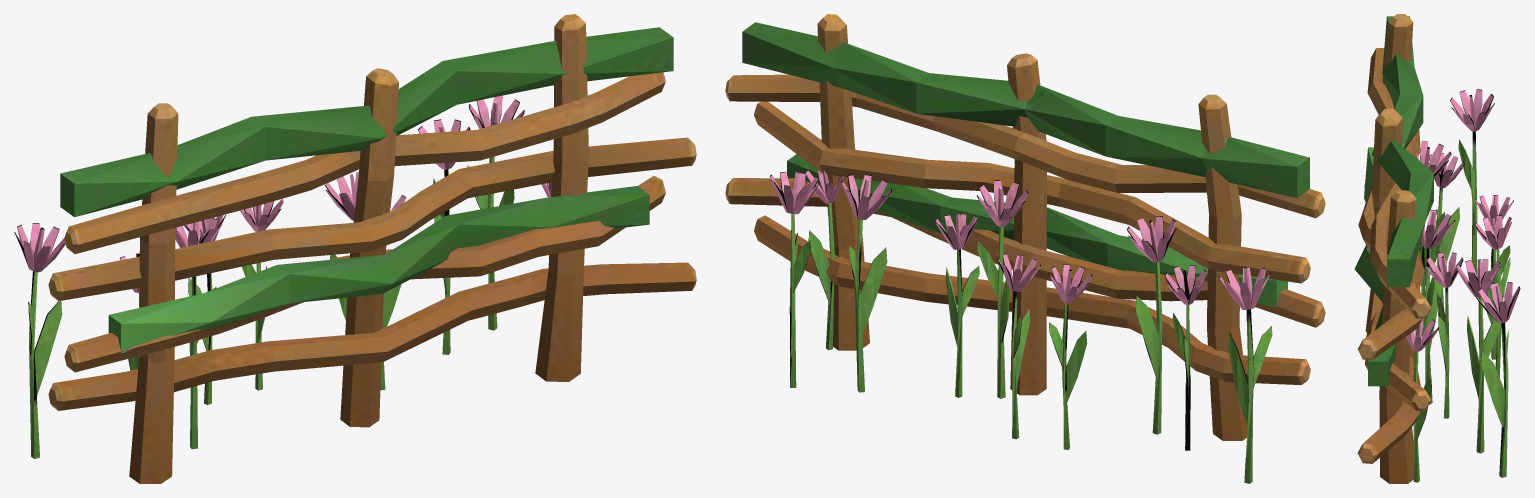
Rendered from fence_flower_lattice_low.glb.
3 views of the same model, side by side, from view 1: azimuth 30°, elevation 25°; view 2: azimuth 150°, elevation 25°; view 3: azimuth 270°, elevation 25° (orthographic). The views are drawn at different scales.
Visible parts, largest first — view 1: fence_flower_lattice_low; view 2: fence_flower_lattice_low; view 3: fence_flower_lattice_low.
Boxes of the visible parts, box(x1,y1,x2,y2) form: fence_flower_lattice_low: box(14, 14, 696, 483); fence_flower_lattice_low: box(725, 14, 1325, 483); fence_flower_lattice_low: box(1354, 14, 1520, 483).
Size of the model in its own units: 1.07 by 0.6 by 0.3.
Materials: 1 (1 with a texture image).
